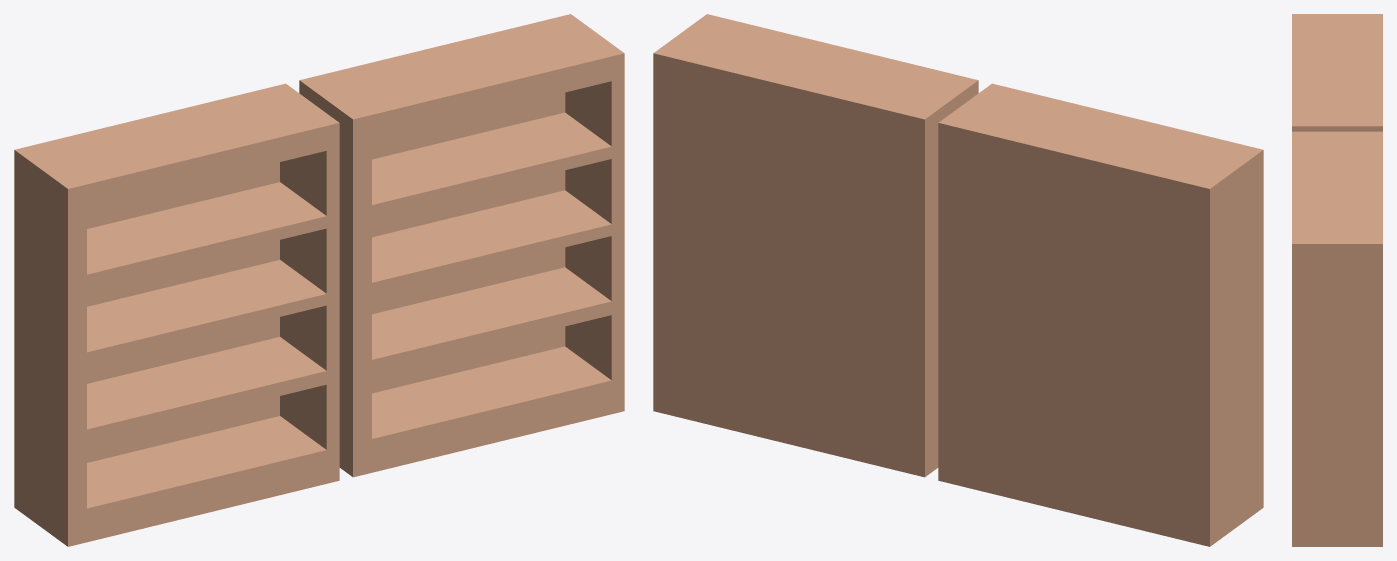
File: shelf_1.fbx
3 renders of one model, left to right at view 1: azimuth 30°, elevation 25°; view 2: azimuth 150°, elevation 25°; view 3: azimuth 270°, elevation 25°, orthographic. The views are drawn at different scales.
Visible parts, largest first — view 1: getabako; view 2: getabako; view 3: getabako.
Boxes of the visible parts, x1,y1,x2,y2 form: getabako: (14,14,624,546); getabako: (653,14,1263,546); getabako: (1292,14,1382,546).
Bounding box in the file's own units: 366 × 2191 × 1347.
